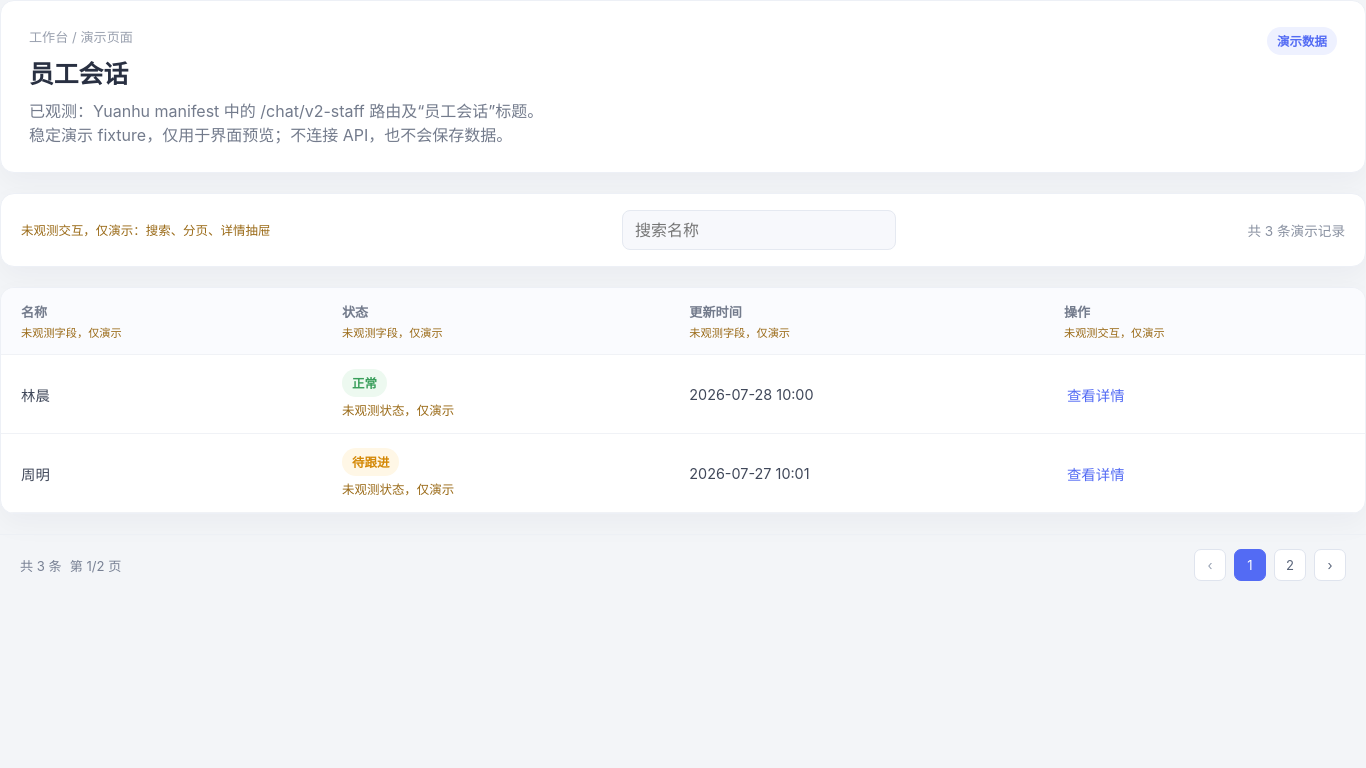
Test: DemoPage › opens a detail drawer from the only detail action
What coordinates should you click on to do the following:
click the button with aria-label "查看林晨详情"
I would click on:
 (1096, 394)
Its box is [1064,380,1128,408].
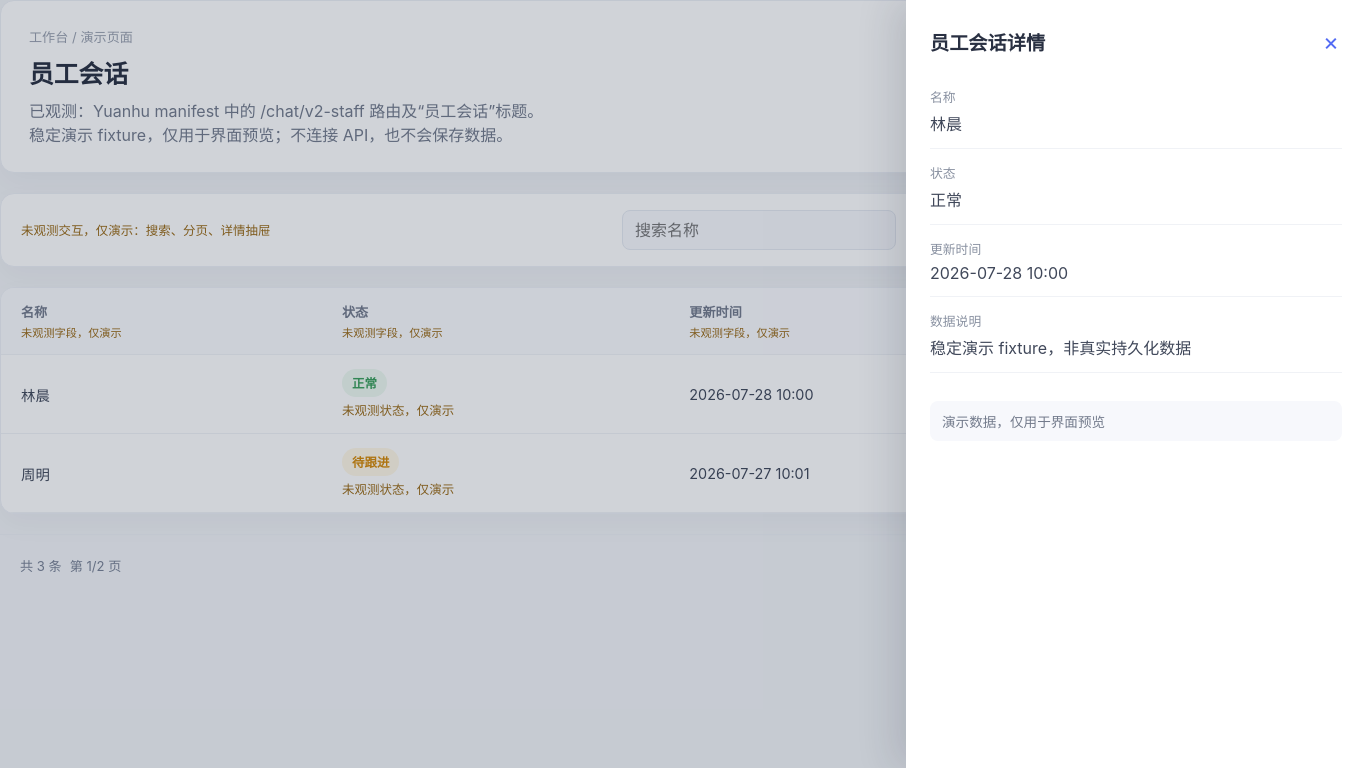
Check: the dialog "员工会话详情" is shown, box [906,0,1365,767]
Check: the text "演示数据，仅用于界面预览" is shown, box [930,401,1342,441]
